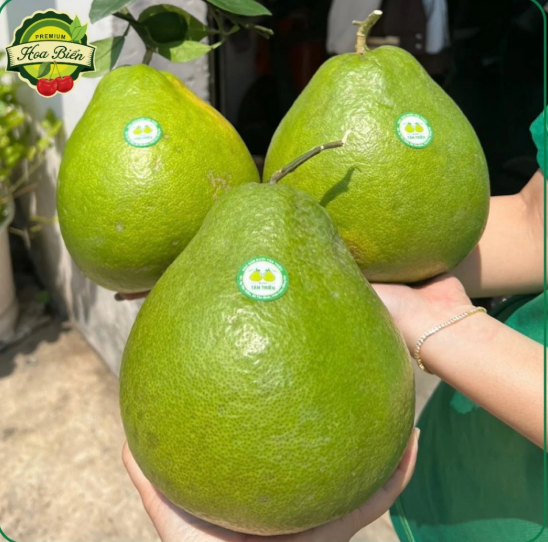buoi: (119, 178, 419, 537), (258, 35, 495, 288), (54, 60, 264, 298)
